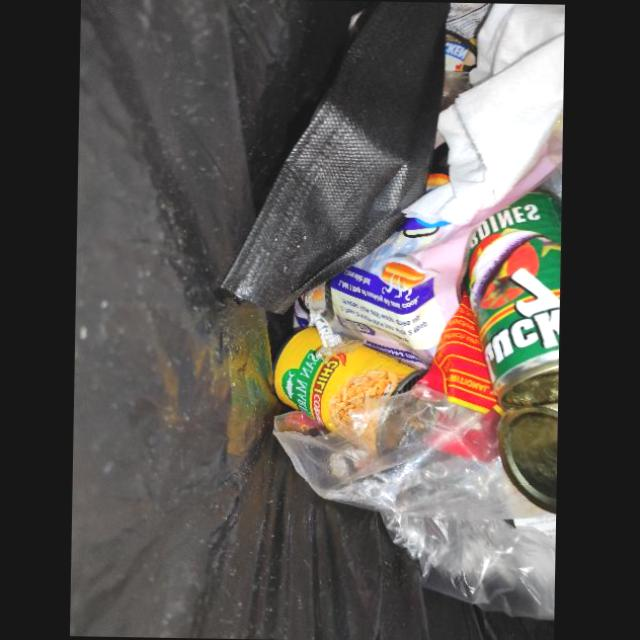bao_bi_thuc_pham: (323, 129, 562, 370), (417, 291, 500, 463)
giay: (402, 3, 565, 227)
khau_trang: (217, 1, 451, 315)
nhom: (465, 191, 561, 516), (273, 326, 427, 436)
tui_ni_long: (272, 394, 556, 621)
